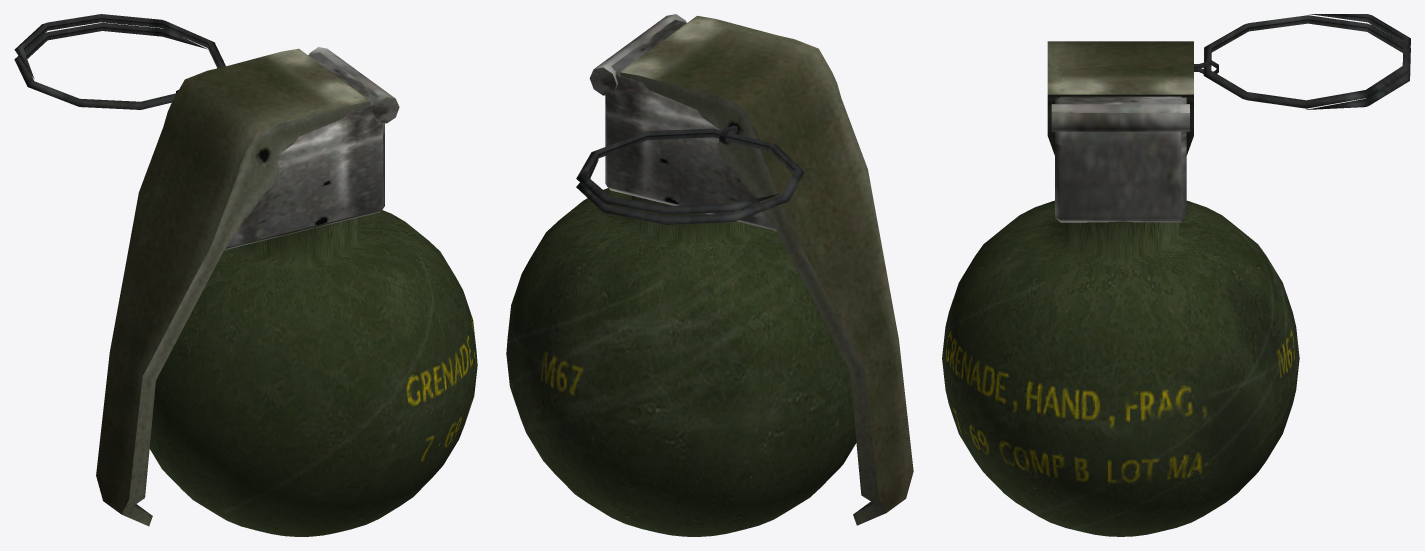
File: FragEx.fbx
The picture shows the model from 3 angles, left to right: view 1: azimuth 30°, elevation 25°; view 2: azimuth 150°, elevation 25°; view 3: azimuth 270°, elevation 25°; orthographic projection. The views are drawn at different scales.
Parts seen in each view (by area): view 1: Base, Spoonl, Pin; view 2: Base, Spoonl, Pin; view 3: Base, Spoonl, Pin.
Part boxes in pixels (x1,y1,x2,y2): Base: (149,47,477,536); Spoonl: (96,48,371,526); Pin: (14,14,225,109); Base: (506,14,856,536); Spoonl: (620,15,913,525); Pin: (576,125,804,224); Base: (942,96,1299,536); Spoonl: (1047,41,1193,155); Pin: (1194,14,1410,109).
Bounding box in the file's own units: 9.13 × 11.19 × 10.71.
1 material, 1 textured.
